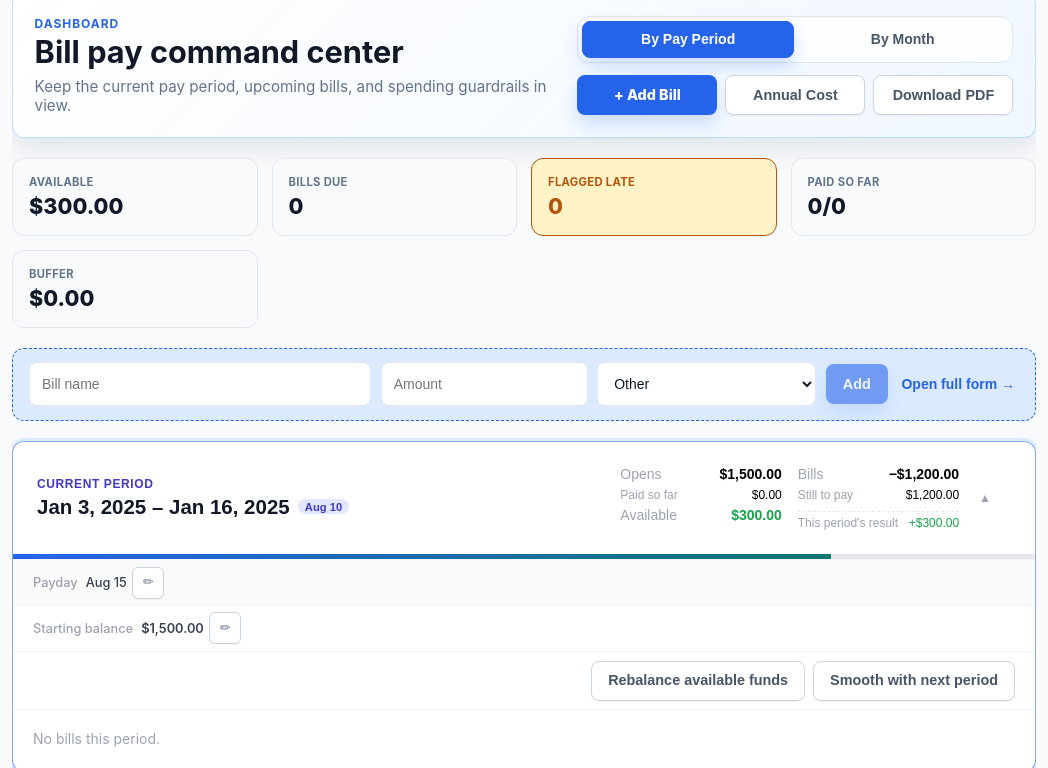
Test case: ScheduleContext — Sidebar/Dashboard consistency (BI-22) › reflects a payday change made in the Dashboard in the Sidebar without a reload
(page scrolled)
Expected: the text "Current period" is shown, [37, 478, 153, 492]
Type "Gym" into the field labelled "Bill name" at (200, 384), box [29, 362, 371, 406]
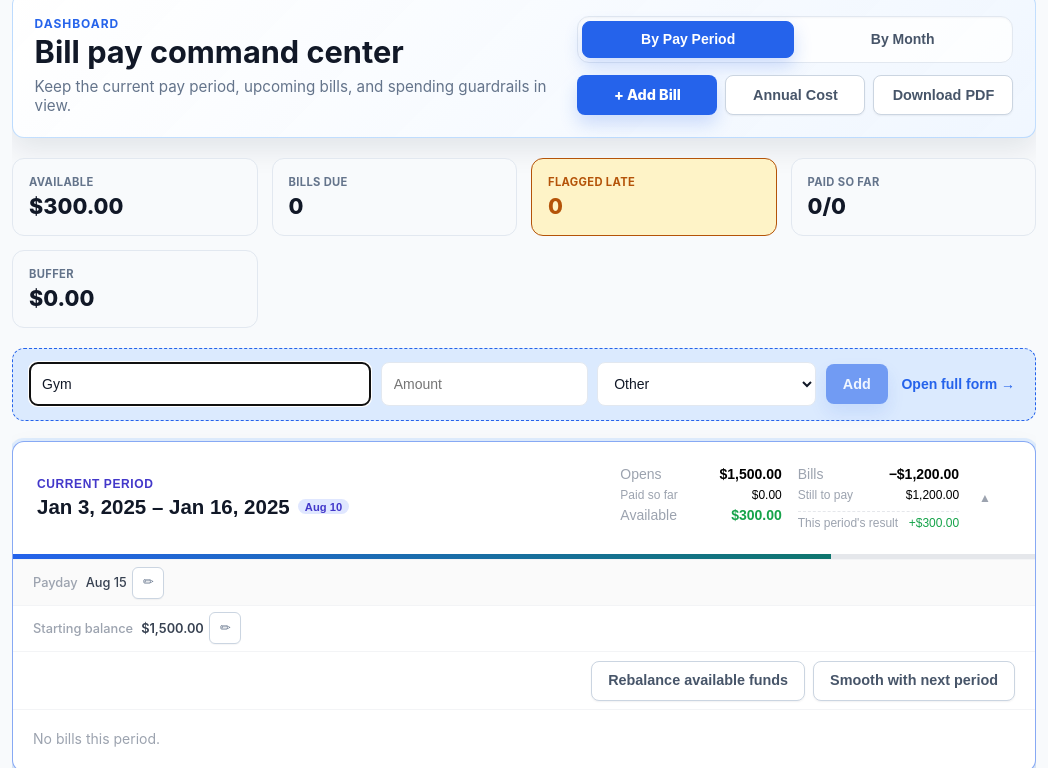
Type "40" into the number field labelled "Amount" at (484, 384), box [381, 362, 588, 406]
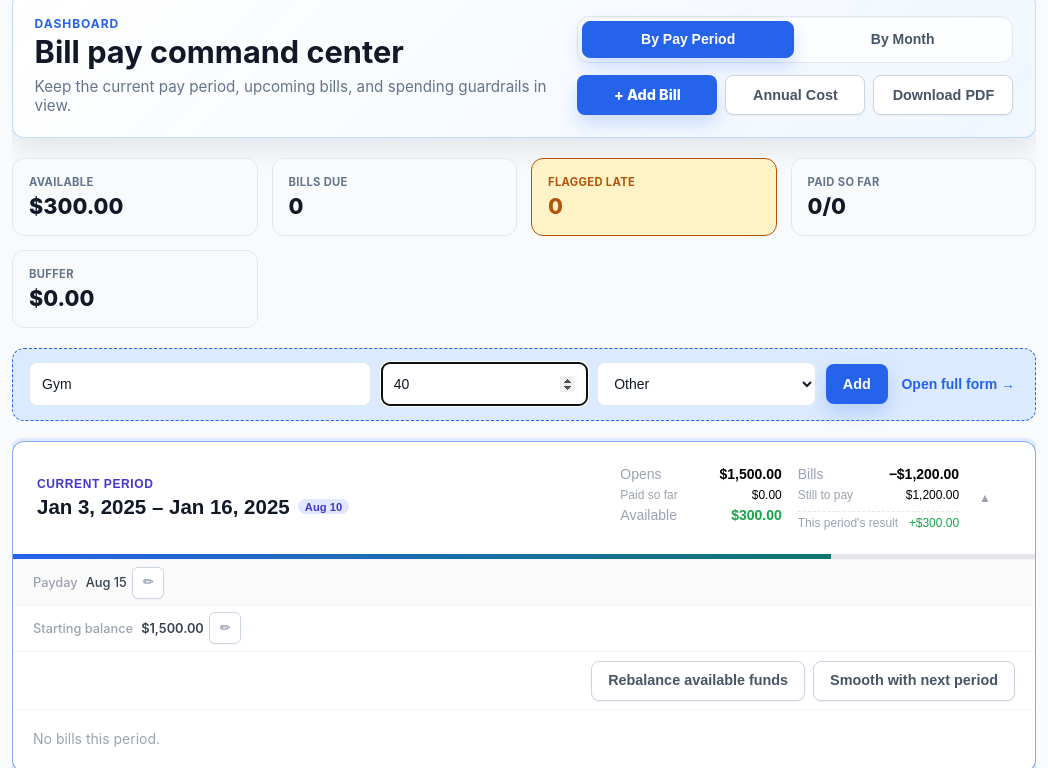
Click the button "Add" at (857, 384), box [826, 364, 888, 404]
(page scrolled)
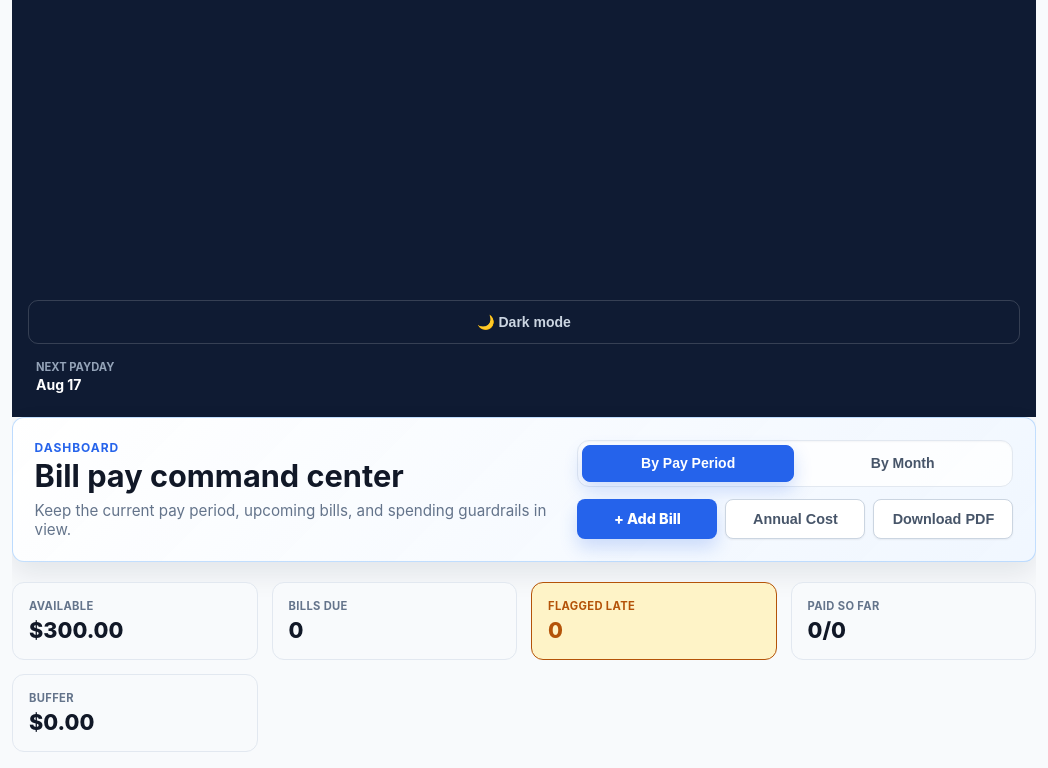
Expected: the text with class "sidebar__stat-value" reads "Aug 17", [36, 376, 82, 393]
